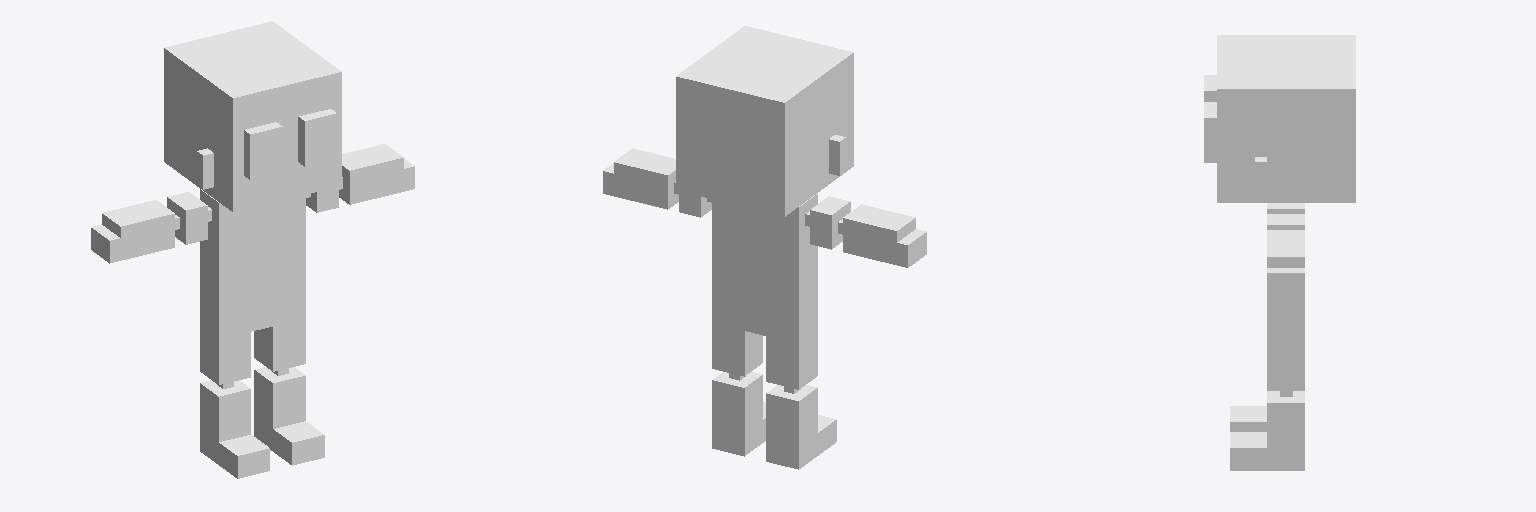
Rendered from Derp.obj.
3 views of the same model, side by side, from view 1: azimuth 30°, elevation 25°; view 2: azimuth 150°, elevation 25°; view 3: azimuth 270°, elevation 25° (orthographic).
Parts seen in each view (by area): view 1: Derp; view 2: Derp; view 3: Derp.
Boxes of the visible parts, x1,y1,x2,y2 form: Derp: [91, 21, 414, 478]; Derp: [603, 26, 926, 469]; Derp: [1204, 35, 1355, 470].
Size of the model in its own units: 28 by 34 by 12.